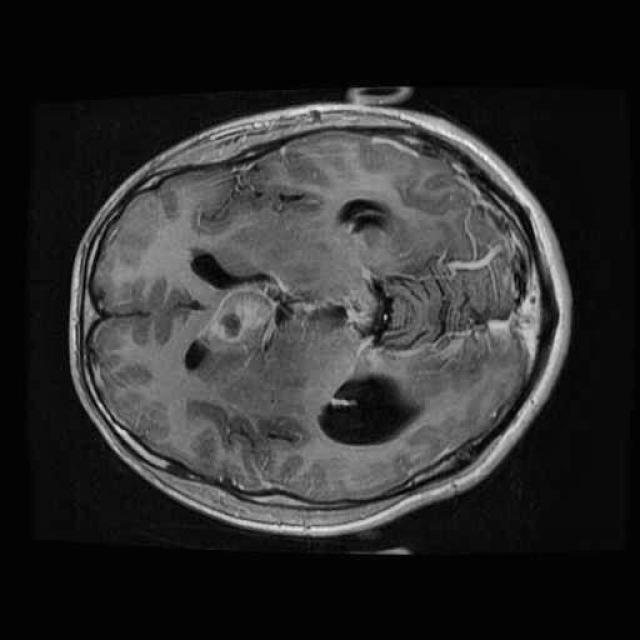Non-Tumor: (186, 281, 289, 370)
